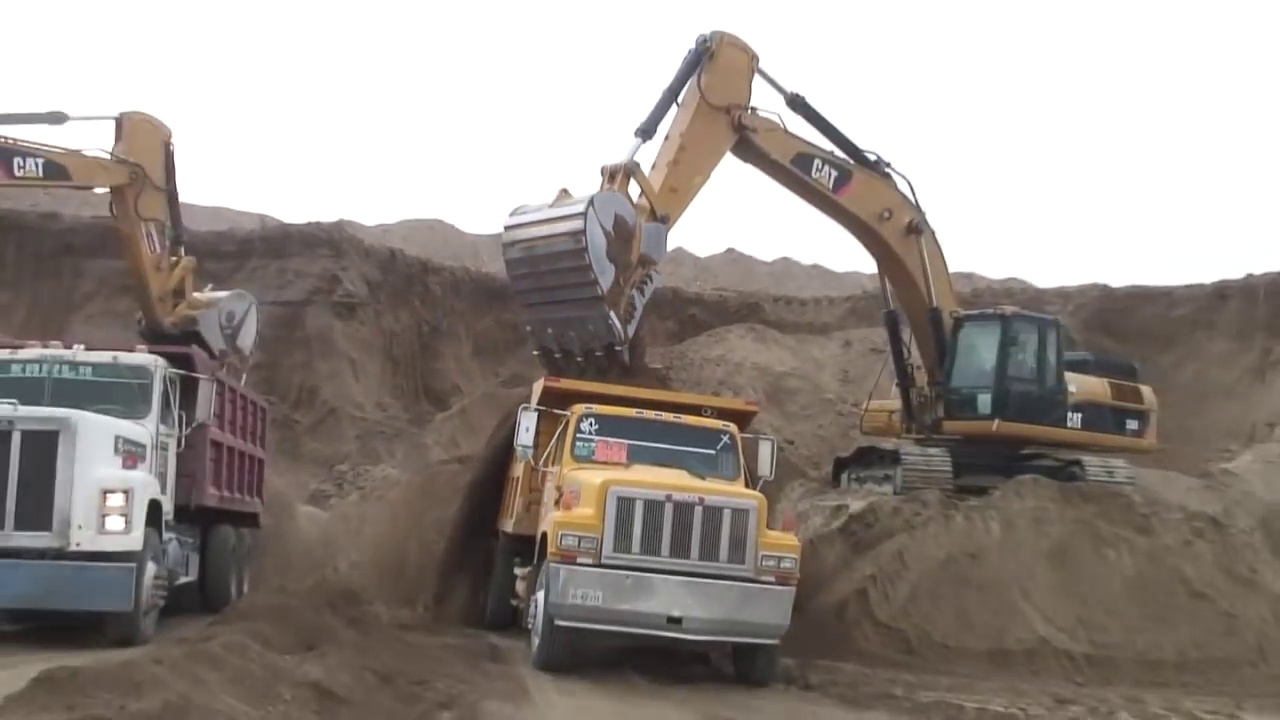excavator: (501, 27, 1161, 519), (1, 100, 268, 388)
truck: (487, 373, 802, 673), (2, 337, 272, 641)
